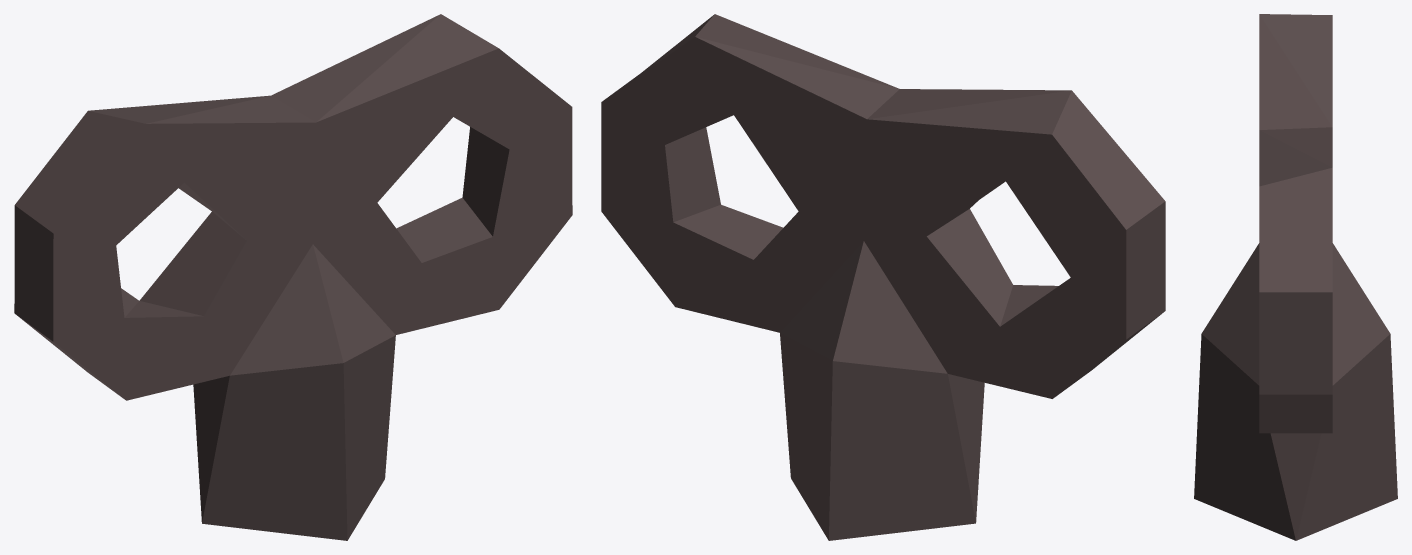
The model's file is hat_toywinder.glb.
The picture shows the model from 3 angles, left to right: view 1: azimuth 30°, elevation 25°; view 2: azimuth 150°, elevation 25°; view 3: azimuth 270°, elevation 25°; orthographic projection. The views are drawn at different scales.
Parts seen in each view (by area): view 1: Lp_ToyWinderHat01; view 2: Lp_ToyWinderHat01; view 3: Lp_ToyWinderHat01.
Boxes of the visible parts, box(x1,y1,x2,y2) form: Lp_ToyWinderHat01: box(14, 14, 572, 540); Lp_ToyWinderHat01: box(601, 14, 1165, 540); Lp_ToyWinderHat01: box(1194, 14, 1397, 540).
Size of the model in its own units: 0.3704 by 0.2948 by 0.1336.
Materials: 1 (1 with a texture image).
